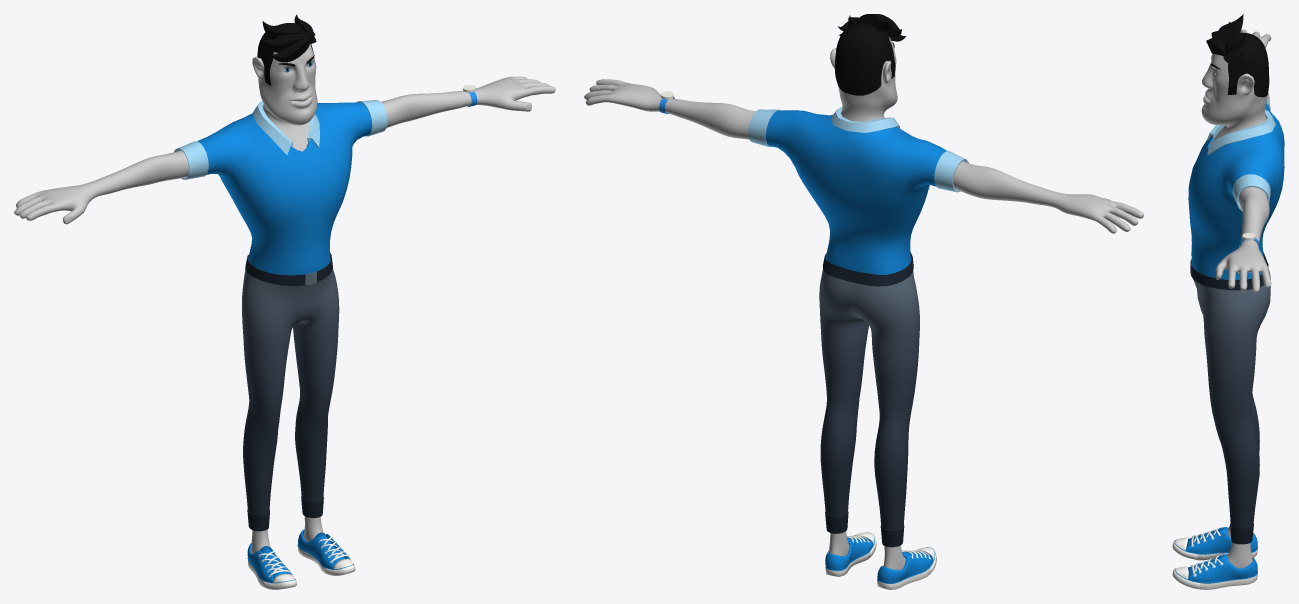
Rendered from LowPolyHumanModel.fbx.
3 views of the same model, side by side, from view 1: azimuth 30°, elevation 25°; view 2: azimuth 150°, elevation 25°; view 3: azimuth 270°, elevation 25° (orthographic). The views are drawn at different scales.
Parts seen in each view (by area): view 1: Shirt_Geo, Pants_Geo, Body_Geo, Shoes_Geo, Hair_Geo; view 2: Pants_Geo, Shirt_Geo, Body_Geo, Hair_Geo, Shoes_Geo; view 3: Pants_Geo, Shirt_Geo, Body_Geo, Shoes_Geo, Hair_Geo.
Boxes of the visible parts, left/top/right/bottom form: Shirt_Geo: left=174, top=100, right=387, bottom=275; Pants_Geo: left=242, top=252, right=339, bottom=531; Body_Geo: left=14, top=43, right=555, bottom=553; Shoes_Geo: left=247, top=529, right=355, bottom=589; Hair_Geo: left=257, top=14, right=316, bottom=85; Pants_Geo: left=819, top=252, right=919, bottom=547; Shirt_Geo: left=748, top=107, right=968, bottom=274; Body_Geo: left=584, top=37, right=1143, bottom=570; Hair_Geo: left=835, top=14, right=905, bottom=95; Shoes_Geo: left=825, top=532, right=936, bottom=589; Pants_Geo: left=1190, top=252, right=1270, bottom=544; Shirt_Geo: left=1188, top=97, right=1284, bottom=279; Body_Geo: left=1201, top=29, right=1271, bottom=568; Shoes_Geo: left=1172, top=527, right=1257, bottom=589; Hair_Geo: left=1206, top=14, right=1269, bottom=97.
Bounding box in the file's own units: 797 × 785 × 147.
